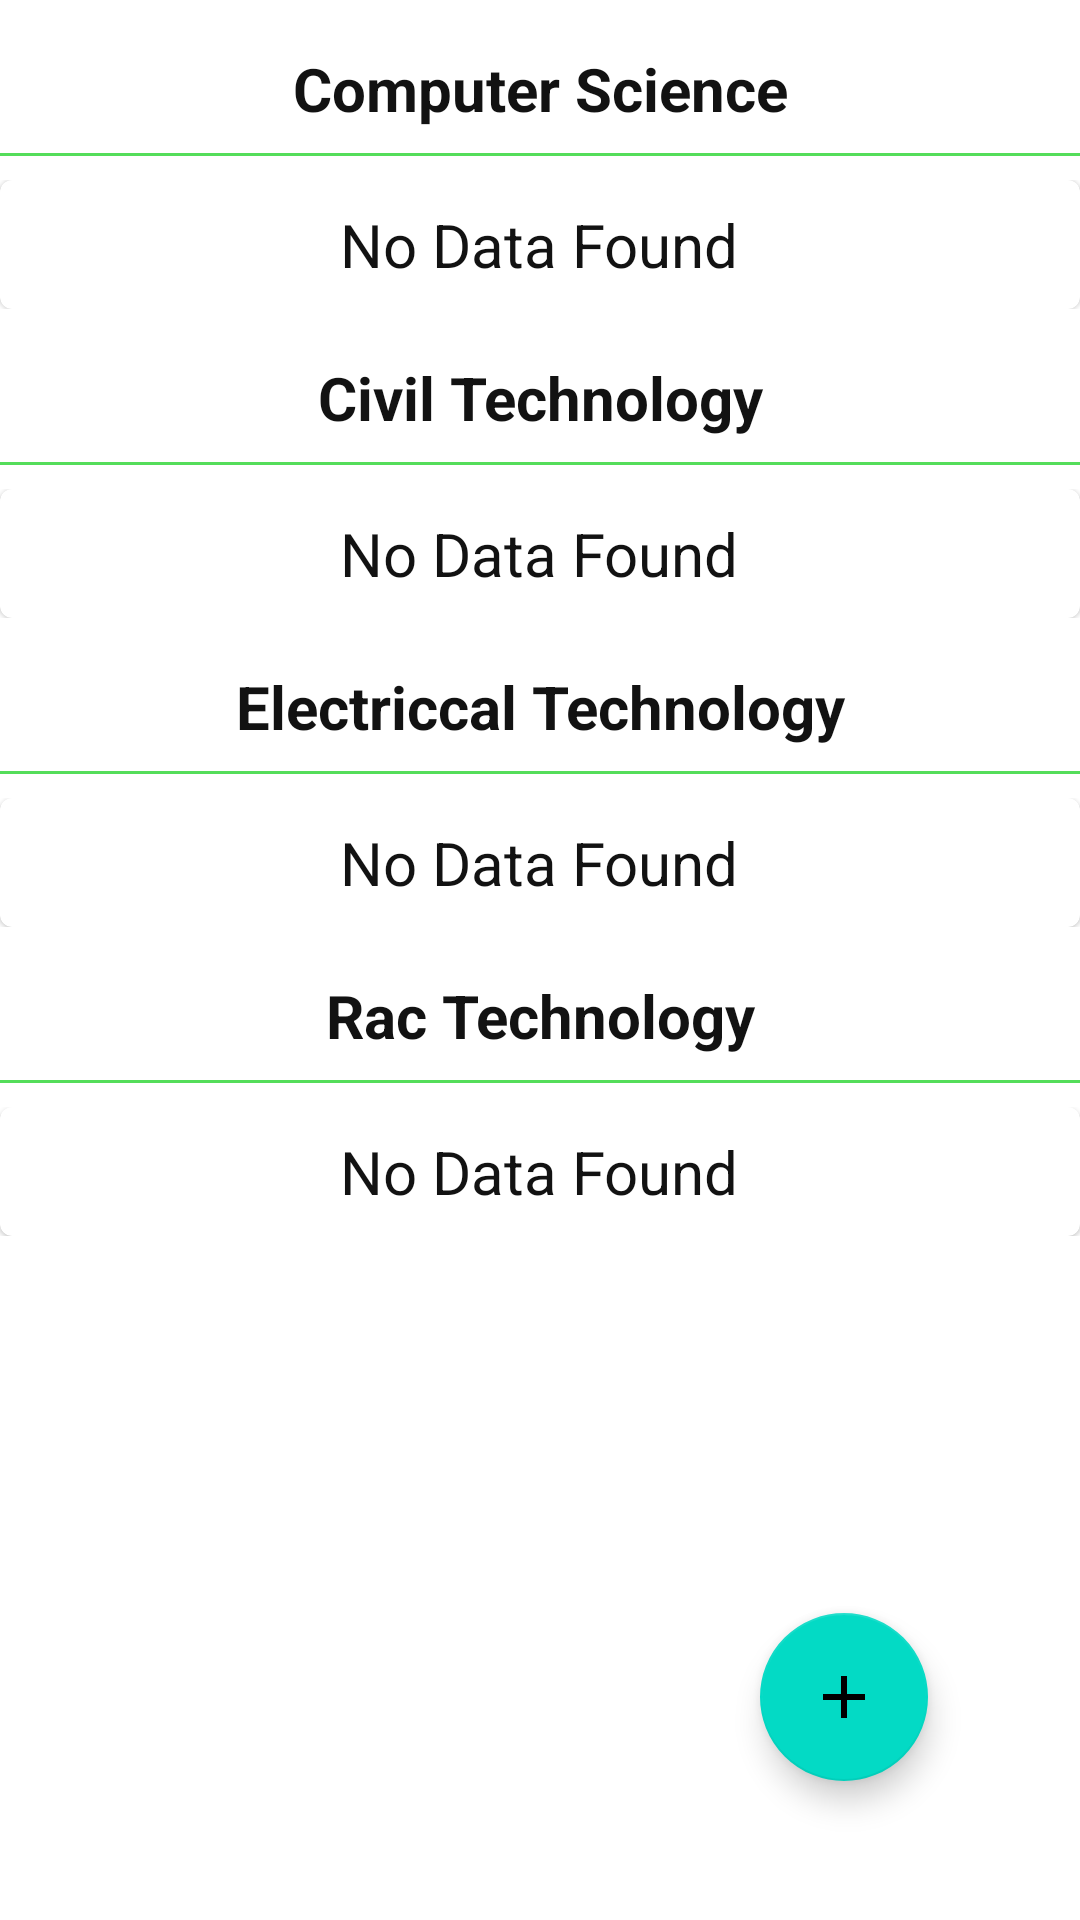

Screen size 1080×1920. Icon name, then its center in pixels as (x=x, y=y):
add: (x=844, y=1697)
